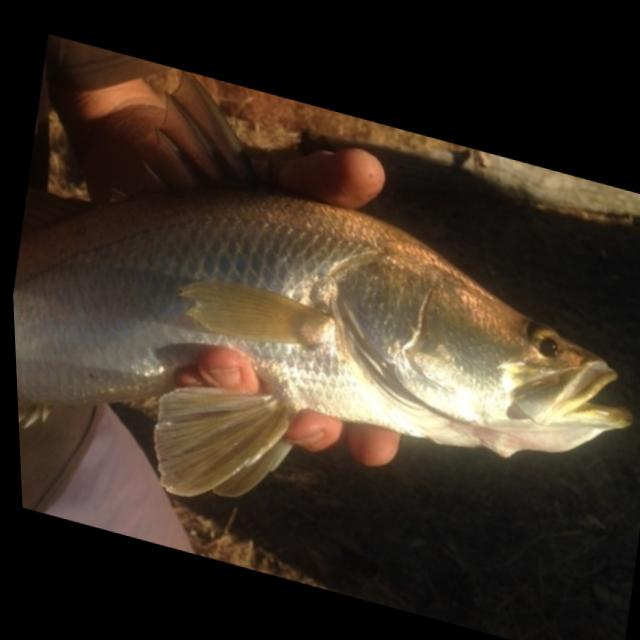Seabass: (1, 28, 640, 640)
